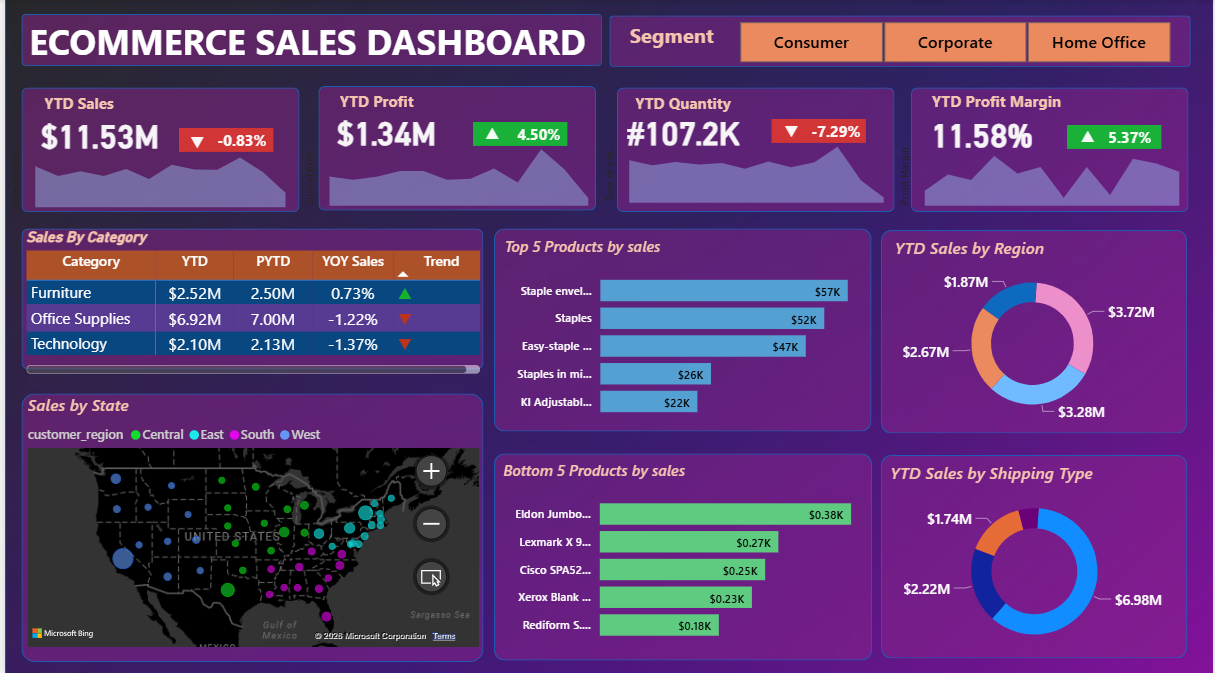

This screenshot's page, from the dashboard's own definition file:
{"tool":"powerbi","page":{"name":"Page 1","canvas":[1280,720],"ordinal":0},"visuals":[{"type":"shape","box":[17,15.1,615,55],"z":0},{"type":"shape","box":[17,94.4,294.5,132.2],"z":1000},{"type":"cardVisual","fields":{"Data":["ecommerce_data.YTD"]},"box":[17.5,100.1,166.9,66.8],"z":2000},{"type":"shape","box":[184.4,136.7,100.1,25.4],"z":3000},{"type":"cardVisual","fields":{"Data":["ecommerce_data.Sales Icon"]},"box":[173.2,120.3,62,47.7],"z":4000},{"type":"areaChart","fields":{"Category":["CALENDER.Month"],"Y":["Sum(ecommerce_data.sales_per_order)"]},"box":[0,144.6,311.5,81.1],"z":5000},{"type":"cardVisual","fields":{"Data":["ecommerce_data.YOY Sales"]},"box":[203.4,120.8,95.4,50.9],"z":6000},{"type":"textbox","box":[36.6,93.8,119.2,33.4],"z":7000},{"type":"shape","box":[332.2,92.2,294,131.9],"z":8000},{"type":"cardVisual","fields":{"Data":["ecommerce_data.YTD Profit"]},"box":[321.1,97,166.9,66.8],"z":9000},{"type":"shape","box":[495.9,130.3,100.1,25.4],"z":10000},{"type":"cardVisual","fields":{"Data":["ecommerce_data.Profit Icon"]},"box":[486.4,111.3,60.4,47.7],"z":11000},{"type":"cardVisual","fields":{"Data":["ecommerce_data.YOY profit"]},"box":[518.1,114.4,95.4,50.9],"z":12000},{"type":"textbox","box":[349.7,92.2,119.2,33.4],"z":13000},{"type":"areaChart","fields":{"Category":["CALENDER.Month"]},"box":[308.3,141.5,321.1,81.1],"z":14000},{"type":"textbox","box":[21.4,13.6,613.8,62.2],"z":15000},{"type":"shape","box":[648.5,93.8,294,131.9],"z":16000},{"type":"shape","box":[812.1,127.6,100.1,25.4],"z":17000},{"type":"cardVisual","fields":{"Data":["ecommerce_data.Qty Icon"]},"box":[807.4,109.7,52.5,47.7],"z":18000},{"type":"textbox","box":[662.8,93.8,130.3,33.4],"z":19000},{"type":"areaChart","fields":{"Y":["Sum(ecommerce_data.profit_per_order)"],"Category":["CALENDER.Month"]},"box":[311.5,143,321.1,81.1],"z":20000},{"type":"cardVisual","fields":{"Data":["ecommerce_data.YTD concatenated Qty"]},"box":[635.8,97,166.9,65.2],"z":21000},{"type":"areaChart","fields":{"Category":["CALENDER.Month"],"Y":["Sum(ecommerce_data.order_quantity)"]},"box":[629.4,139.9,316.3,81.1],"z":22000},{"type":"cardVisual","fields":{"Data":["ecommerce_data.YOY Qty"]},"box":[832.8,111.3,95.4,50.9],"z":23000},{"type":"shape","box":[959.4,93.2,294,131.9],"z":24000},{"type":"shape","box":[1125.3,133.5,100.1,25.4],"z":25000},{"type":"cardVisual","fields":{"Data":["ecommerce_data.Proft Mar Icon"]},"box":[1118.9,114.4,57.2,54],"z":26000},{"type":"textbox","box":[972.7,92.2,186,31.8],"z":27000},{"type":"cardVisual","fields":{"Data":["ecommerce_data.YOY profit Margin"]},"box":[1144.4,117.6,95.4,50.9],"z":28000},{"type":"cardVisual","fields":{"Data":["ecommerce_data.YTD Profit Margin"]},"box":[952.1,98.5,166.9,66.8],"z":29000},{"type":"areaChart","fields":{"Category":["CALENDER.Month"],"Y":["ecommerce_data.Profit Margin"]},"box":[942.5,143,316.3,81.1],"z":30000},{"type":"shape","box":[17.5,243.2,489.5,149.4],"z":31000},{"type":"pivotTable","title":"Sales By Category","fields":{"Rows":["ecommerce_data.category_name"],"Values":["ecommerce_data.YTD","ecommerce_data.PYTD","ecommerce_data.YOY Sales","ecommerce_data.Sales Icon"]},"box":[17.5,243.2,491.1,158.9],"z":32000},{"type":"shape","box":[17.5,418,489.5,284.5],"z":33000},{"type":"map","title":"Sales by State","fields":{"Y":["us_state_long_lat_codes.latitude"],"X":["us_state_long_lat_codes.longitude"],"Size":["ecommerce_data.YTD"],"Series":["ecommerce_data.customer_region"]},"box":[19.1,418,487.9,273.4],"z":34000},{"type":"shape","box":[518.1,243.2,400,215],"z":35000},{"type":"shape","box":[518.1,481.6,400.5,219.3],"z":36000},{"type":"barChart","title":"Top 5 Products by sales","fields":{"Category":["ecommerce_data.product_name"],"Y":["ecommerce_data.YTD"]},"box":[524.4,250.6,386.5,203.9],"z":37000},{"type":"barChart","title":"Bottom 5 Products by sales","fields":{"Category":["ecommerce_data.product_name"],"Y":["ecommerce_data.YTD"]},"box":[522.5,487.5,392.4,203.9],"z":38000},{"type":"shape","box":[928.4,244.7,324.4,215.6],"z":39000},{"type":"shape","box":[928.4,483.6,324.4,215.6],"z":40000},{"type":"donutChart","title":"YTD Sales by Region","fields":{"Category":["ecommerce_data.customer_region"],"Y":["ecommerce_data.YTD"]},"box":[938.1,250.6,301.1,203.9],"z":41000},{"type":"donutChart","title":"YTD Sales by Shipping Type","fields":{"Y":["ecommerce_data.YTD"],"Category":["ecommerce_data.shipping_type"]},"box":[932.3,489.5,314.7,209.8],"z":42000},{"type":"shape","box":[641,17.5,615.7,54.4],"z":43000},{"type":"slicer","fields":{"Values":["ecommerce_data.customer_segment"]},"box":[753.6,17.5,505,56.3],"z":44000},{"type":"textbox","box":[641,17.5,132.1,52.4],"z":44001}]}

Visuals, with their boxes in screenshot pixels (x1, y1, x2, y2), scaled from the page's 1280x720 canvas onto the 1215x673 screenshot:
shape: 16 14 600 66
shape: 16 88 296 212
cardVisual - ecommerce_data.YTD: 17 94 175 156
shape: 175 128 270 152
cardVisual - ecommerce_data.Sales Icon: 164 112 223 157
areaChart - CALENDER.Month x Sum(ecommerce_data.sales_per_order): 0 135 296 211
cardVisual - ecommerce_data.YOY Sales: 193 113 284 160
textbox: 35 88 148 119
shape: 315 86 594 209
cardVisual - ecommerce_data.YTD Profit: 305 91 463 153
shape: 471 122 566 146
cardVisual - ecommerce_data.Profit Icon: 462 104 519 149
cardVisual - ecommerce_data.YOY profit: 492 107 582 155
textbox: 332 86 445 117
areaChart - CALENDER.Month: 293 132 597 208
textbox: 20 13 603 71
shape: 616 88 895 211
shape: 771 119 866 143
cardVisual - ecommerce_data.Qty Icon: 766 103 816 147
textbox: 629 88 753 119
areaChart - Sum(ecommerce_data.profit_per_order) x CALENDER.Month: 296 134 600 209
cardVisual - ecommerce_data.YTD concatenated Qty: 604 91 762 152
areaChart - CALENDER.Month x Sum(ecommerce_data.order_quantity): 597 131 898 207
cardVisual - ecommerce_data.YOY Qty: 791 104 881 152
shape: 911 87 1190 210
shape: 1068 125 1163 149
cardVisual - ecommerce_data.Proft Mar Icon: 1062 107 1116 157
textbox: 923 86 1100 116
cardVisual - ecommerce_data.YOY profit Margin: 1086 110 1177 158
cardVisual - ecommerce_data.YTD Profit Margin: 904 92 1062 155
areaChart - CALENDER.Month x ecommerce_data.Profit Margin: 895 134 1195 209
shape: 17 227 481 367
"Sales By Category" pivotTable: 17 227 483 376
shape: 17 391 481 657
"Sales by State" map: 18 391 481 646
shape: 492 227 871 428
shape: 492 450 872 655
"Top 5 Products by sales" barChart: 498 234 865 425
"Bottom 5 Products by sales" barChart: 496 456 868 646
shape: 881 229 1189 430
shape: 881 452 1189 654
"YTD Sales by Region" donutChart: 890 234 1176 425
"YTD Sales by Shipping Type" donutChart: 885 458 1184 654
shape: 608 16 1193 67
slicer - ecommerce_data.customer_segment: 715 16 1195 69
textbox: 608 16 734 65
